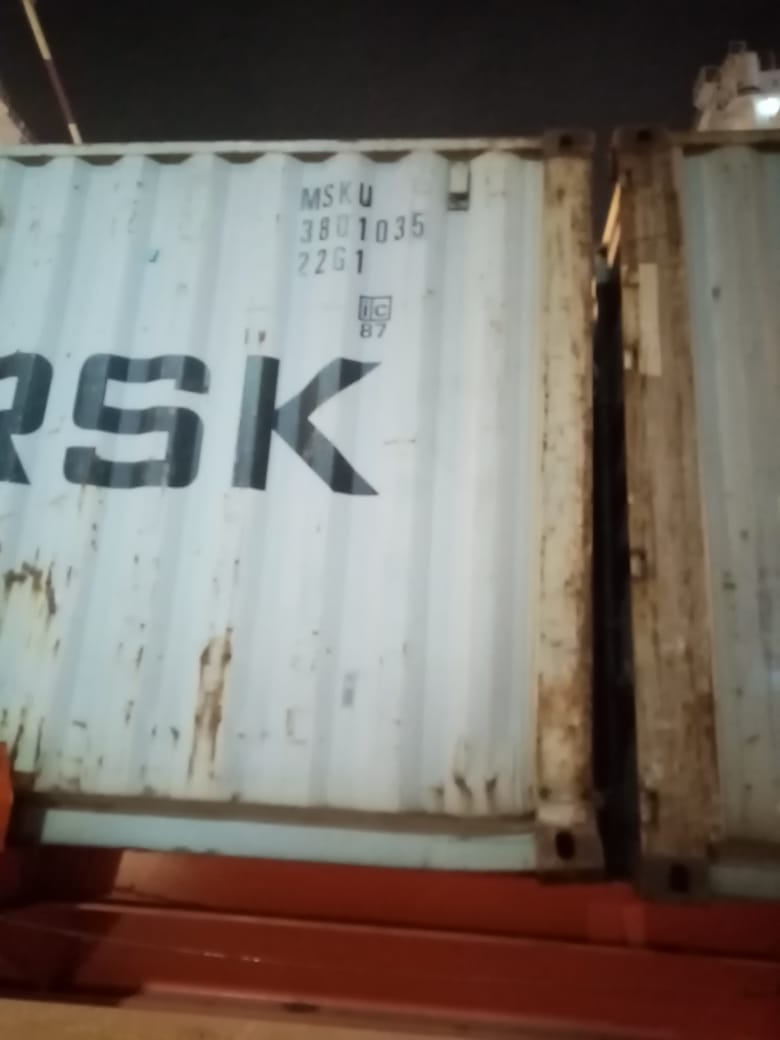moderate: (500, 704, 604, 870)
